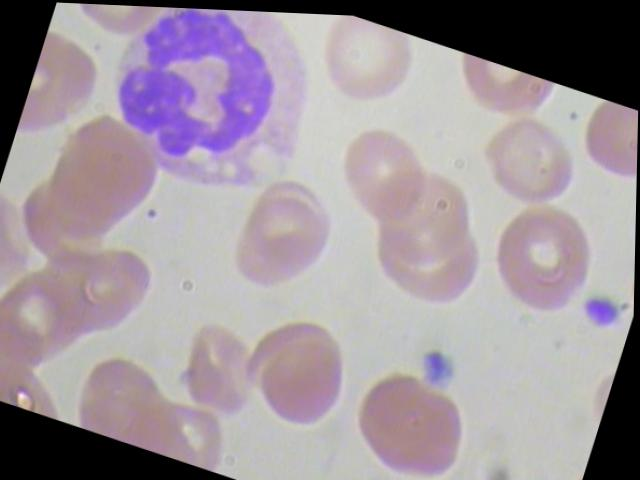Platelets: (568, 280, 626, 334), (415, 343, 466, 393)
Red Blood Cells: (478, 181, 608, 320), (344, 355, 484, 479), (366, 150, 490, 279), (222, 174, 341, 305), (247, 318, 357, 442), (472, 99, 587, 211), (326, 117, 441, 228), (17, 20, 113, 152), (306, 11, 423, 111), (176, 311, 275, 422), (443, 47, 554, 126), (570, 90, 638, 194), (54, 2, 177, 49)
White Blood Cells: (76, 3, 351, 218)
